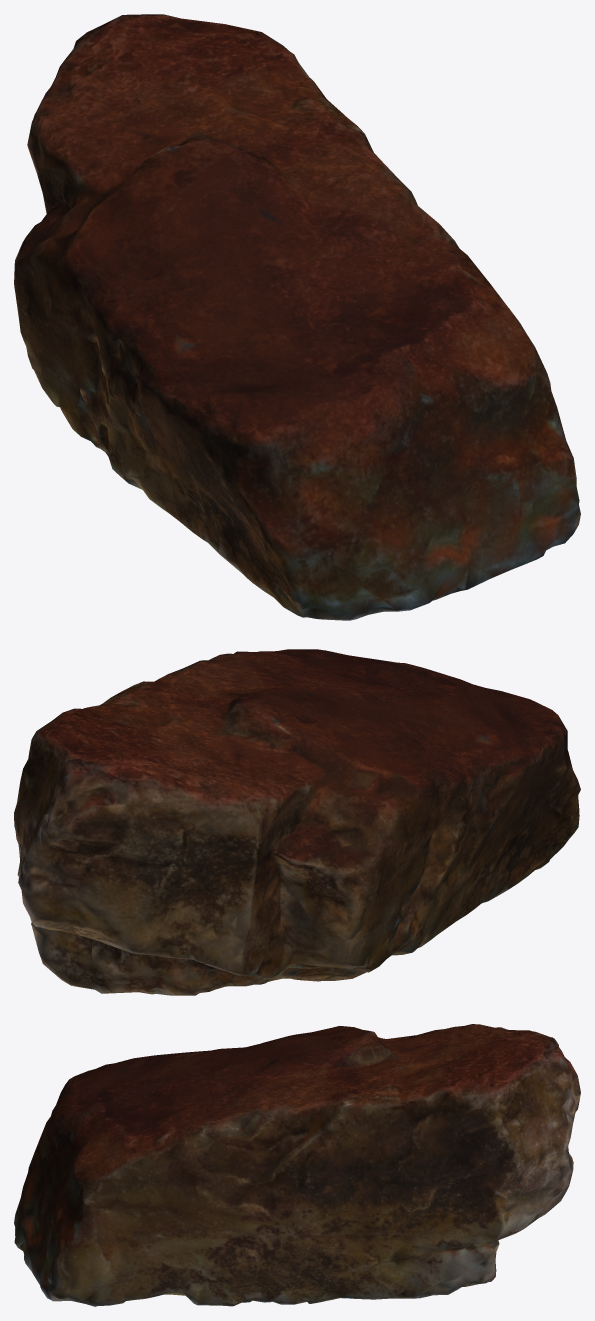
The model's file is alpine_rock_07.glb.
3 renders of one model, top to bottom at view 1: azimuth 30°, elevation 25°; view 2: azimuth 150°, elevation 25°; view 3: azimuth 270°, elevation 25°, orthographic. The views are drawn at different scales.
Size of the model in its own units: 0.1689 by 0.1437 by 0.3203.
Materials: 1 (1 with a texture image).
